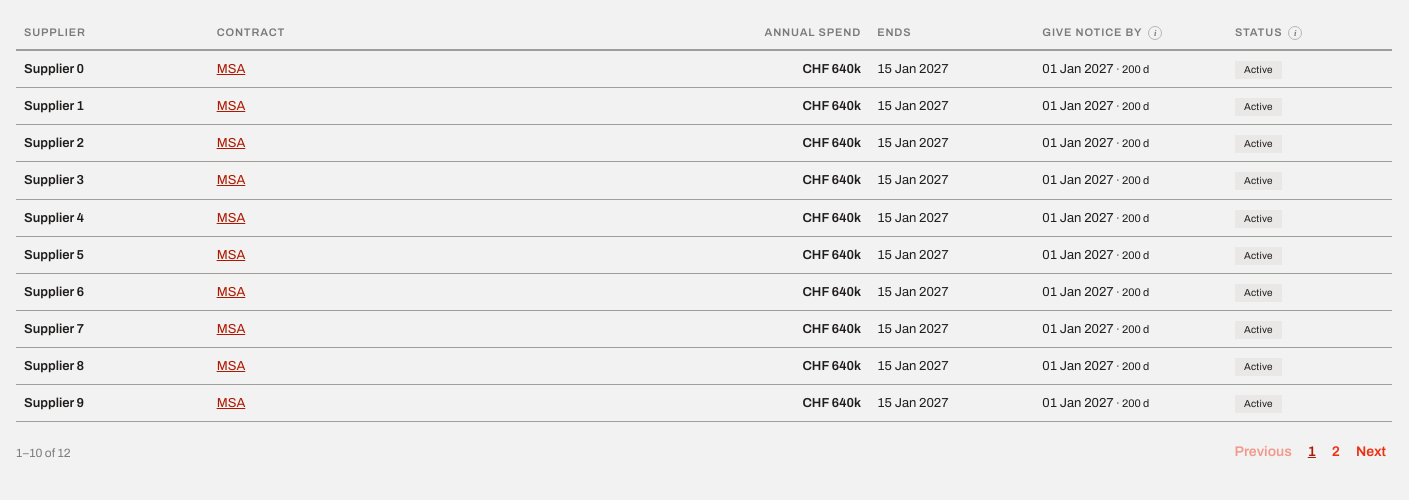
Test: PortfolioTable pagination › defaults to 10 rows and pages the rest
Expected: the text "Supplier 0" is shown, [16,50,209,88]
Expected: the text "Supplier 10" is not shown
Step 1. Click the button "Next" → (1371, 453), box [1350,434,1392,471]
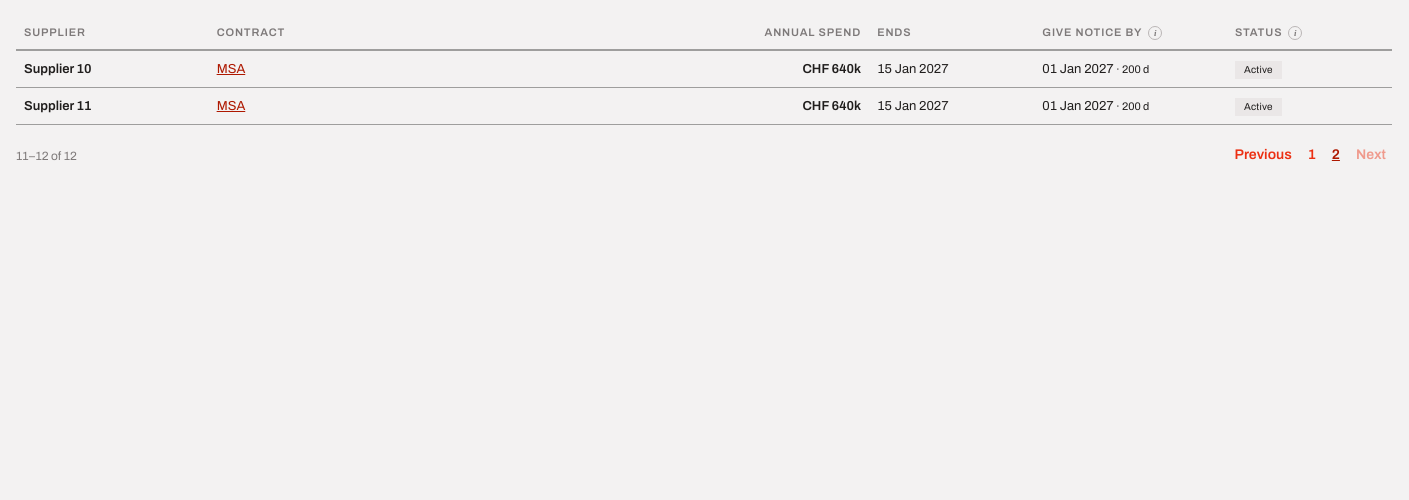
Expected: the text "Supplier 10" is shown, [16,50,209,88]
Expected: the text "Supplier 0" is gone
